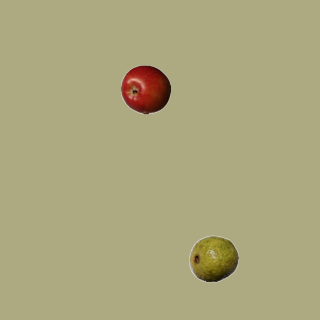Apple Braeburn: (120, 64, 170, 114)
Guava: (188, 233, 238, 283)
